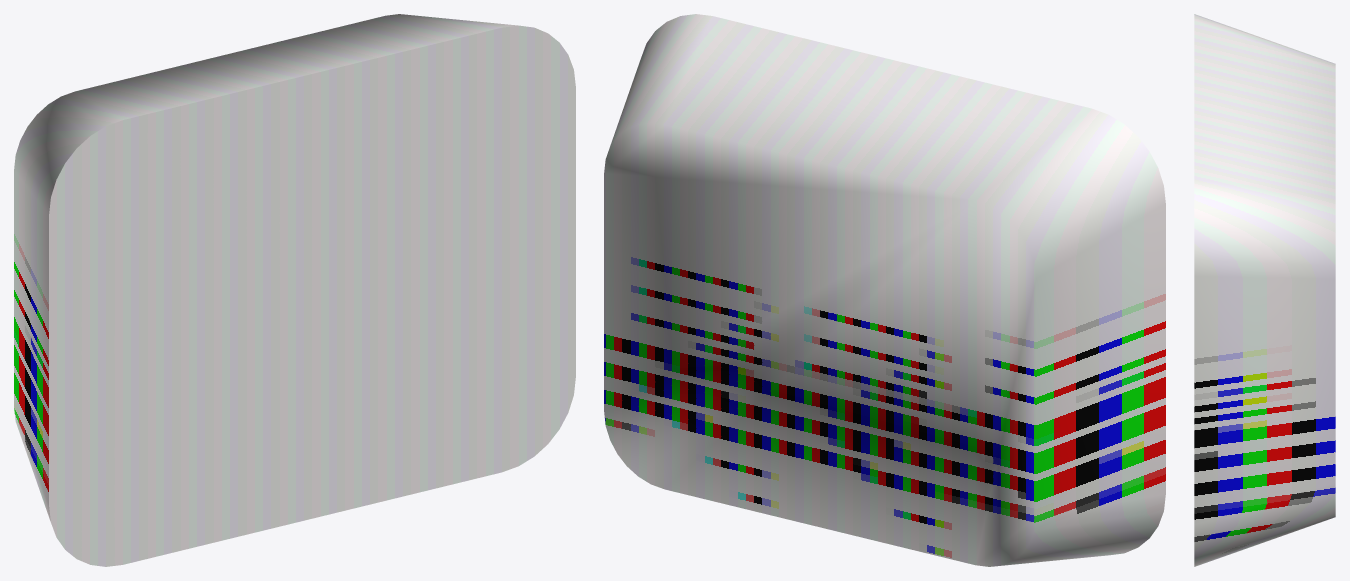
The model's file is ENTER_BUTTON_PULSE.fbx.
3 views of the same model, side by side, from view 1: azimuth 30°, elevation 25°; view 2: azimuth 150°, elevation 25°; view 3: azimuth 270°, elevation 25° (orthographic). The views are drawn at different scales.
Parts seen in each view (by area): view 1: ENTER_BUTTON_PULSE; view 2: ENTER_BUTTON_PULSE; view 3: ENTER_BUTTON_PULSE.
Part boxes in pixels (x1,y1,x2,y2): ENTER_BUTTON_PULSE: (14, 14, 575, 566); ENTER_BUTTON_PULSE: (604, 14, 1165, 566); ENTER_BUTTON_PULSE: (1194, 14, 1335, 566).
Size of the model in its own units: 2849 by 2298 by 771.
1 material, 1 textured.
